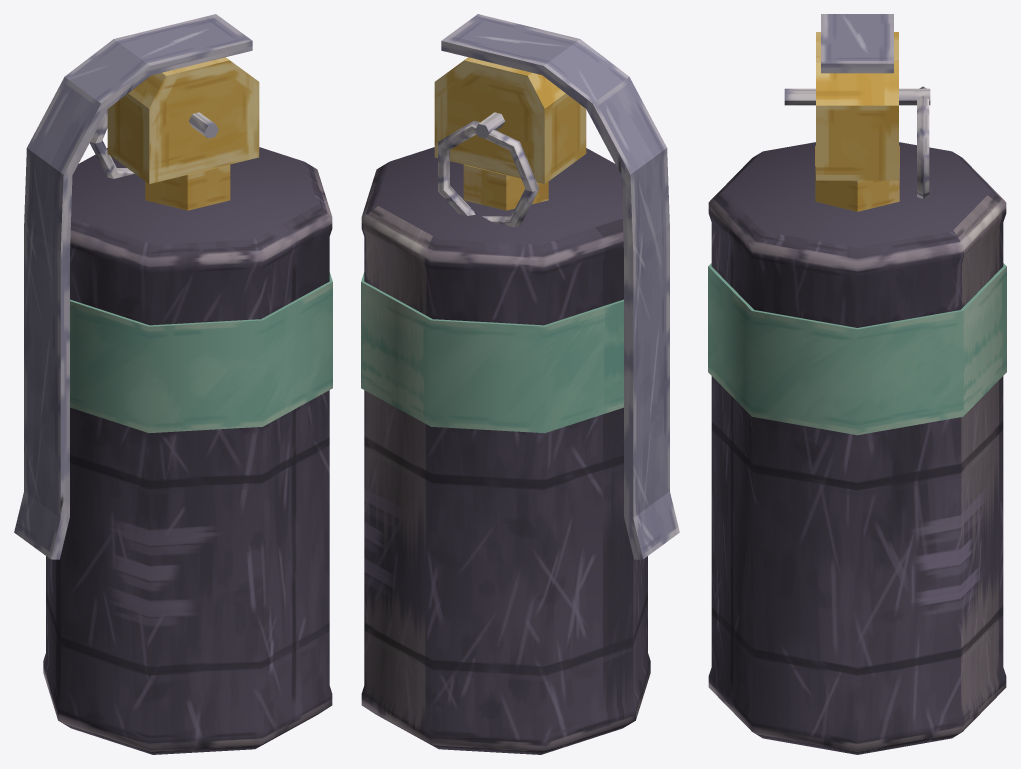
Rendered from smoke_low.fbx.
3 renders of one model, left to right at view 1: azimuth 30°, elevation 25°; view 2: azimuth 150°, elevation 25°; view 3: azimuth 270°, elevation 25°, orthographic.
Visible parts, largest first — view 1: smoke_low; view 2: smoke_low; view 3: smoke_low.
Boxes of the visible parts, x1,y1,x2,y2 form: smoke_low: (14, 14, 332, 754); smoke_low: (361, 14, 679, 754); smoke_low: (708, 14, 1006, 754).
Size of the model in its own units: 0.2526 by 0.5591 by 0.2303.
1 material, 1 textured.
